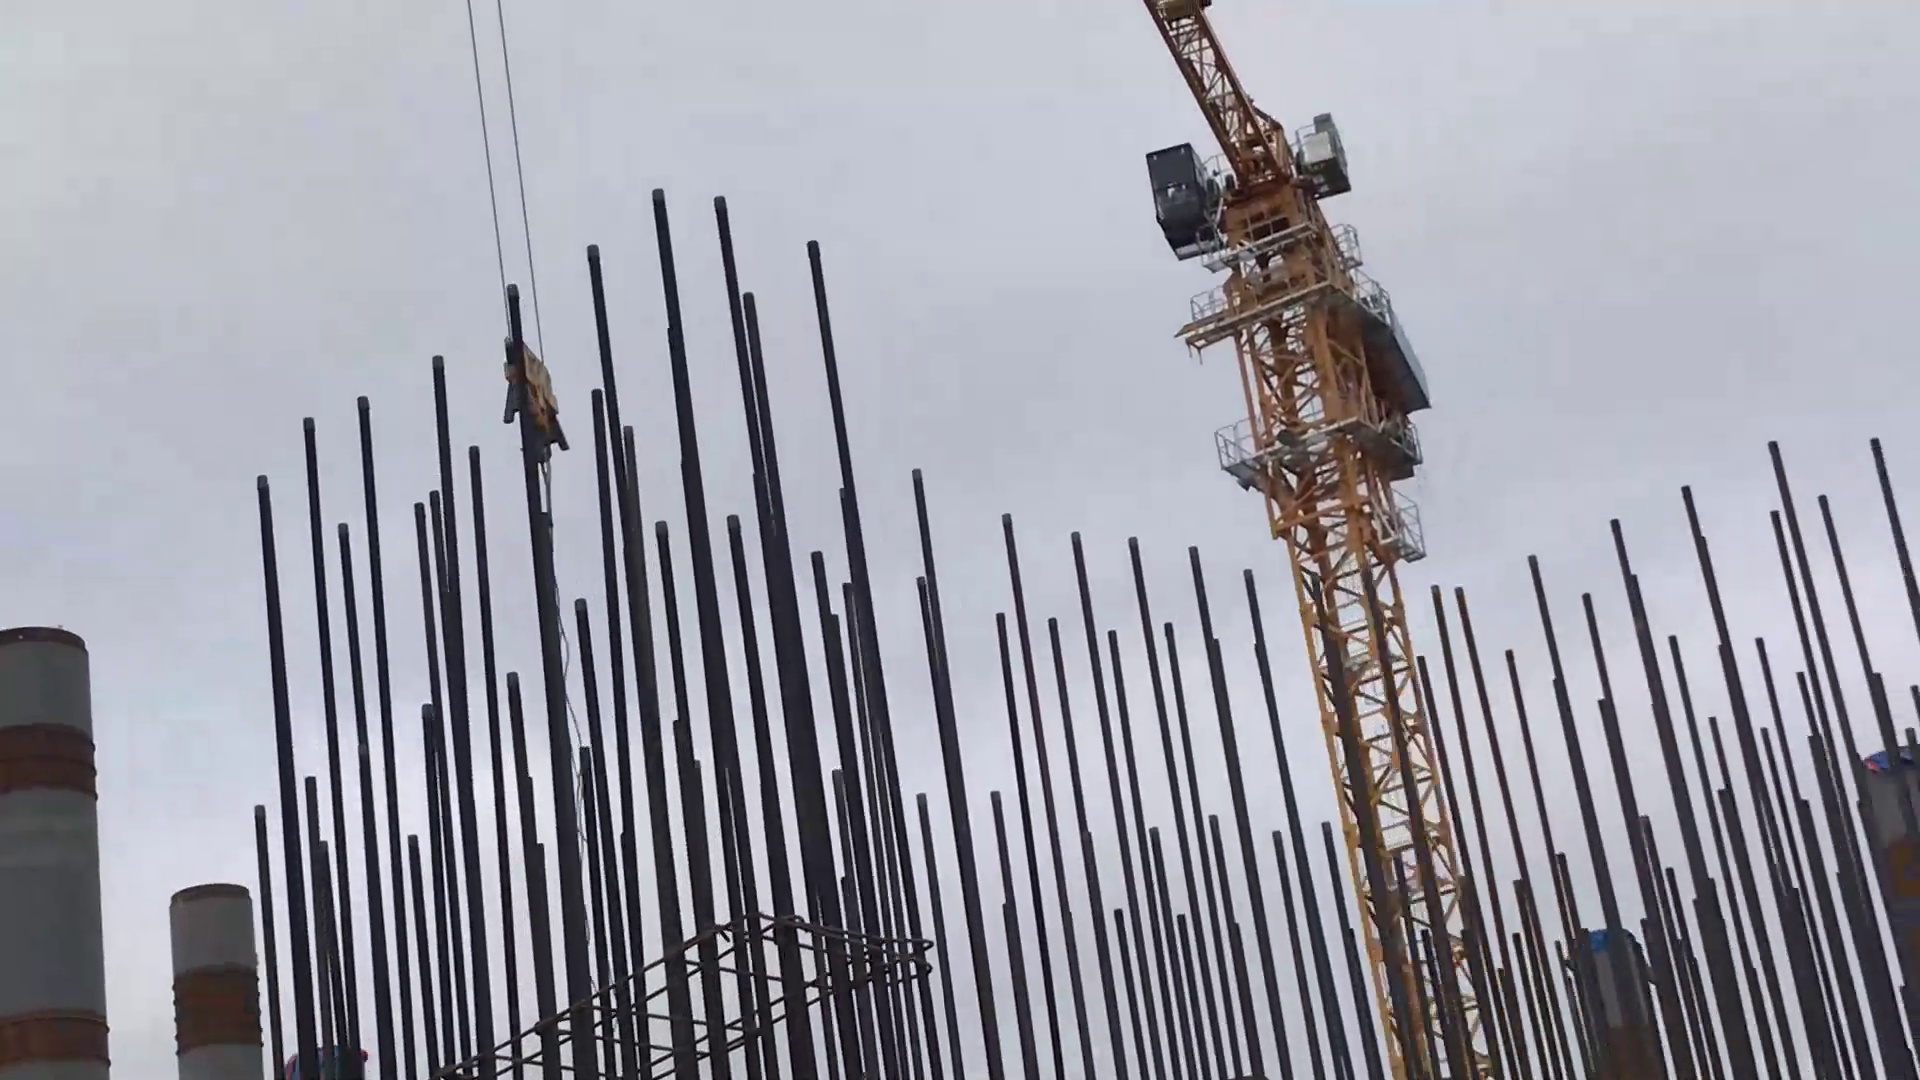hook: (491, 323, 600, 479)
